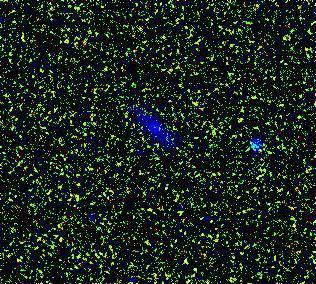star: (221, 107, 251, 137)
